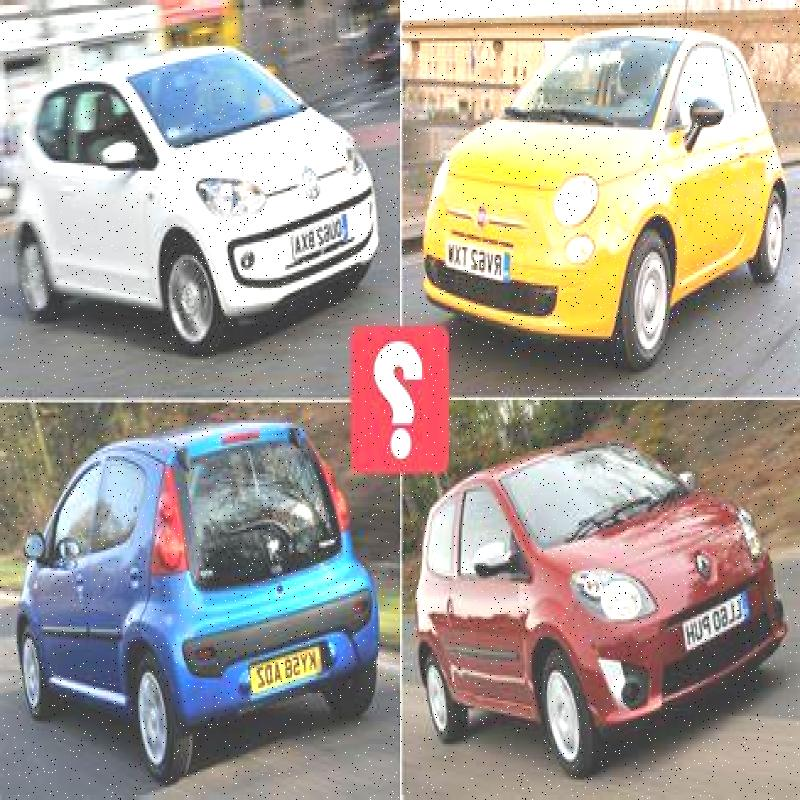car: (413, 443, 773, 800), (420, 22, 770, 342), (5, 449, 334, 732), (15, 39, 358, 299)
